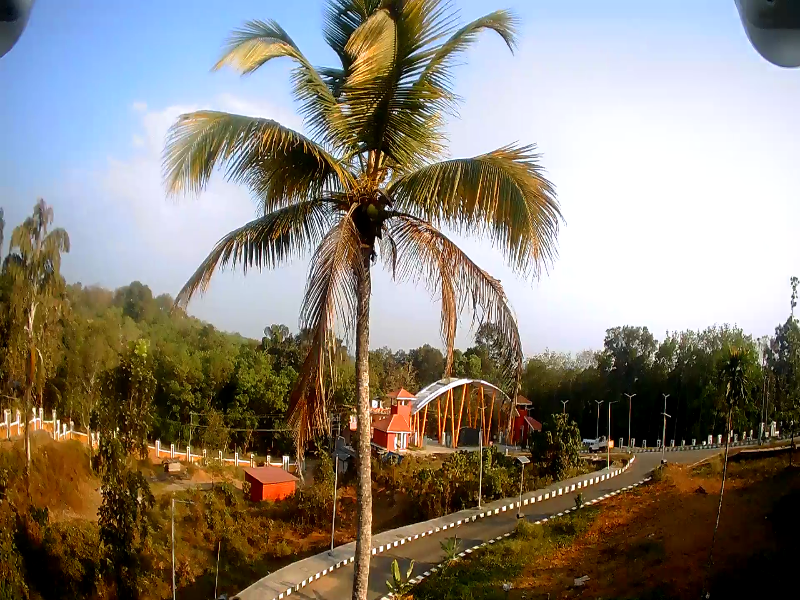coconut: (365, 196, 375, 214)
